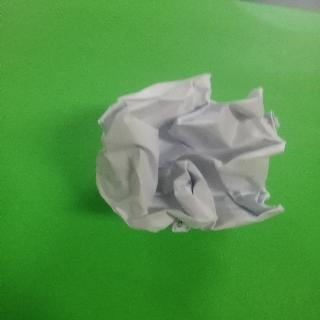8/可回收垃圾/纸: (95, 71, 287, 233)
